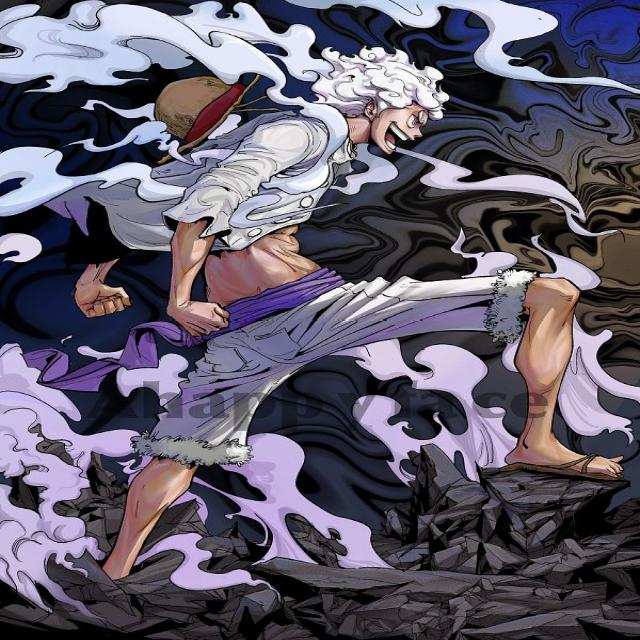luffy: (24, 3, 640, 640)
